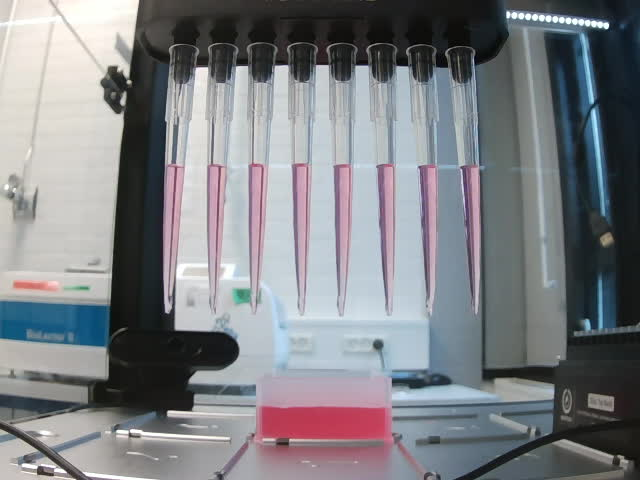pipet: (444, 46, 482, 315), (364, 42, 400, 316), (163, 43, 199, 314), (285, 43, 320, 316), (405, 44, 439, 318), (206, 42, 240, 313), (246, 43, 279, 315), (326, 42, 358, 318)
red liquid: (290, 163, 313, 315), (163, 165, 186, 314), (417, 165, 439, 317), (459, 165, 481, 316), (206, 163, 227, 314), (248, 164, 268, 315), (376, 164, 395, 315), (333, 164, 351, 318)
